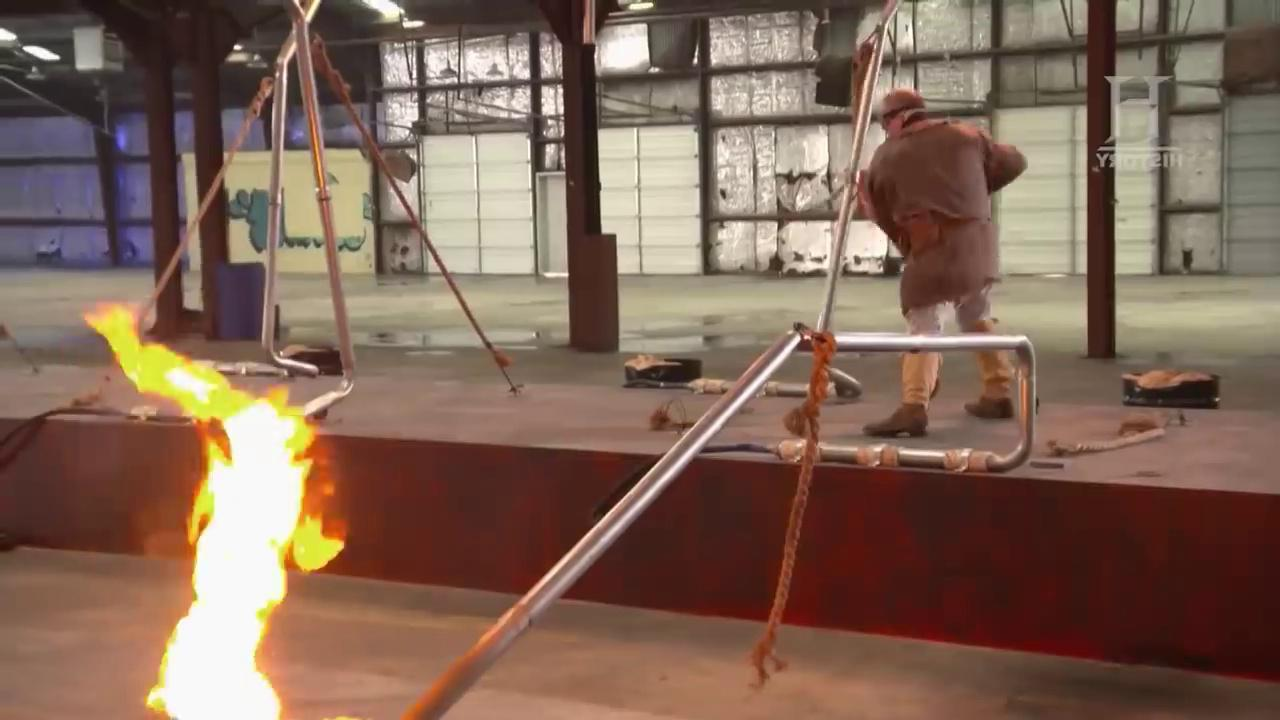Fire: (86, 288, 345, 720)
